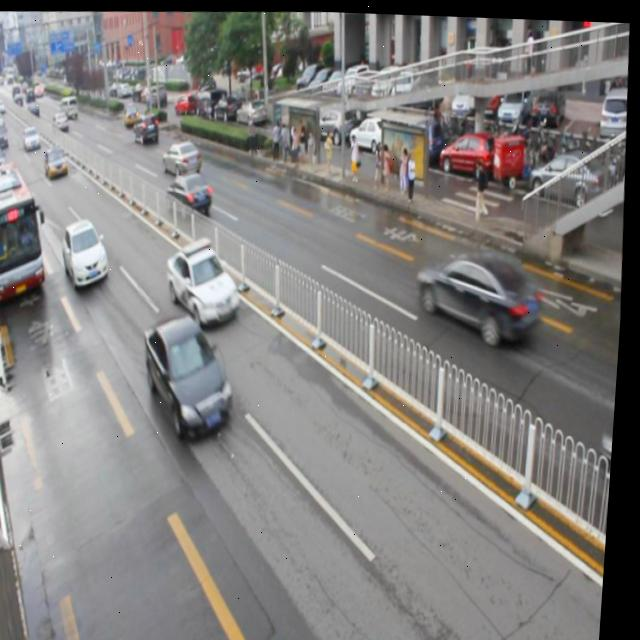car: (140, 309, 245, 439), (413, 244, 545, 345), (165, 233, 247, 328), (63, 218, 115, 290), (165, 166, 216, 216), (162, 137, 203, 175), (133, 111, 161, 145), (44, 144, 72, 178)
van: (0, 160, 57, 301)
